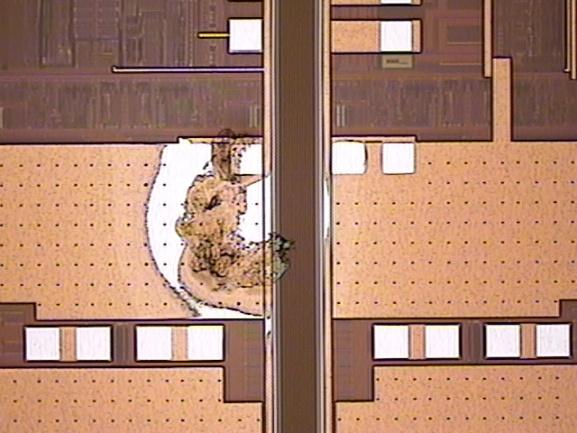COATING BAD: (143, 131, 297, 324)
